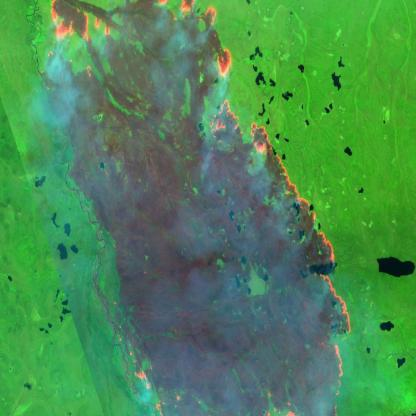fire: (33, 0, 352, 416)
